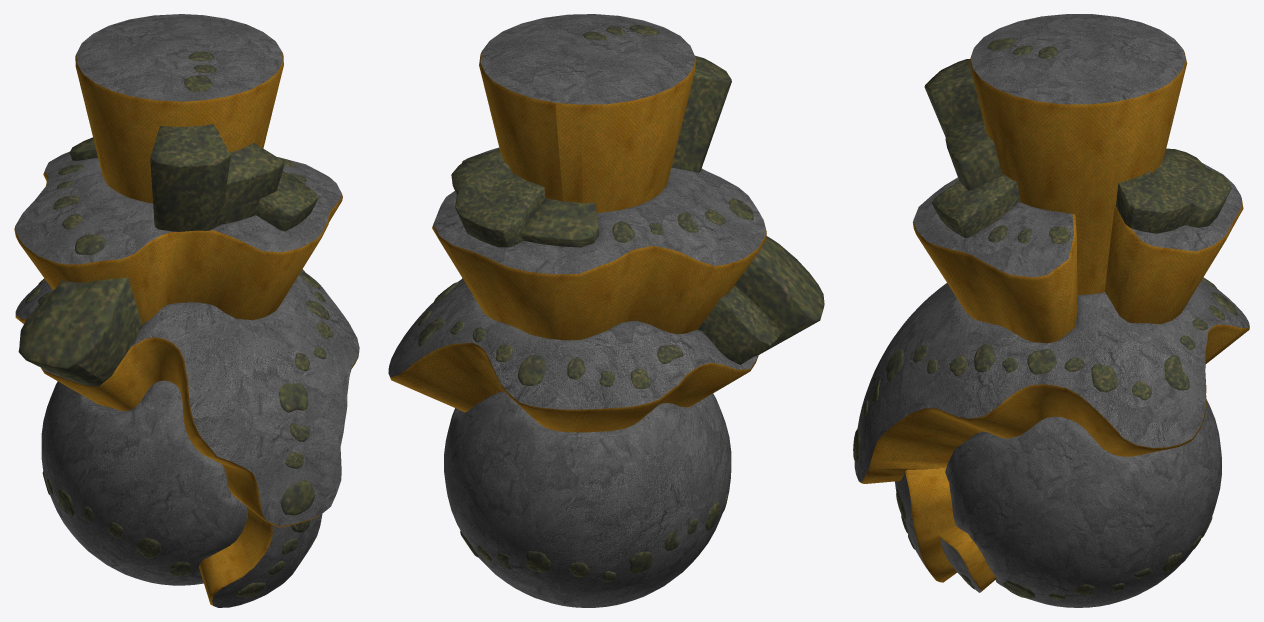
The model's file is stareggroadeggplanetd.dae.
3 renders of one model, left to right at view 1: azimuth 30°, elevation 25°; view 2: azimuth 150°, elevation 25°; view 3: azimuth 270°, elevation 25°, orthographic. The views are drawn at different scales.
Parts seen in each view (by area): view 1: n1b0, n2b1, n0b2; view 2: n1b0, n2b1, n0b2; view 3: n1b0, n2b1, n0b2.
Part boxes in pixels (bbox=[...]): n1b0: bbox=[15, 14, 359, 607]; n2b1: bbox=[14, 52, 358, 605]; n0b2: bbox=[18, 51, 332, 597]; n1b0: bbox=[388, 14, 765, 607]; n2b1: bbox=[389, 52, 766, 432]; n0b2: bbox=[417, 25, 824, 582]; n1b0: bbox=[854, 14, 1249, 607]; n2b1: bbox=[859, 50, 1249, 592]; n0b2: bbox=[853, 38, 1237, 599].
Size of the model in its own units: 2873 by 4192 by 2752.
